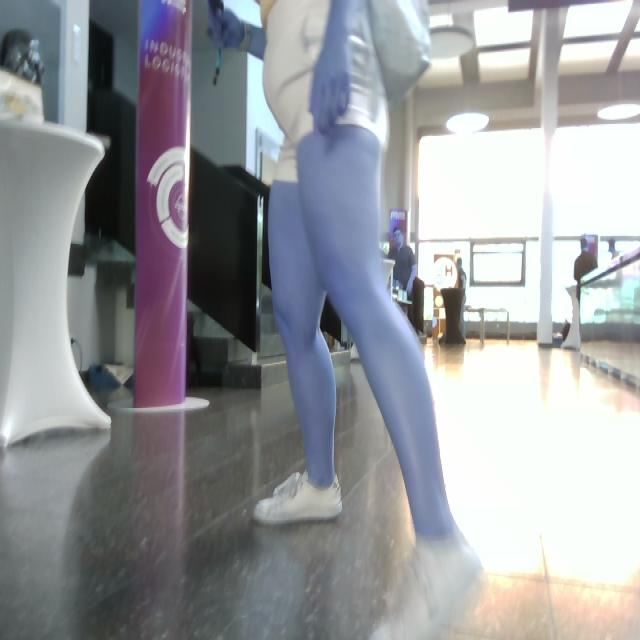light bulb: (429, 26, 475, 60), (446, 112, 490, 134), (597, 103, 640, 123), (380, 241, 390, 257)
person: (207, 1, 487, 588)
pillar: (133, 1, 193, 409), (536, 6, 569, 348)
tiled floor: (2, 332, 639, 638)
